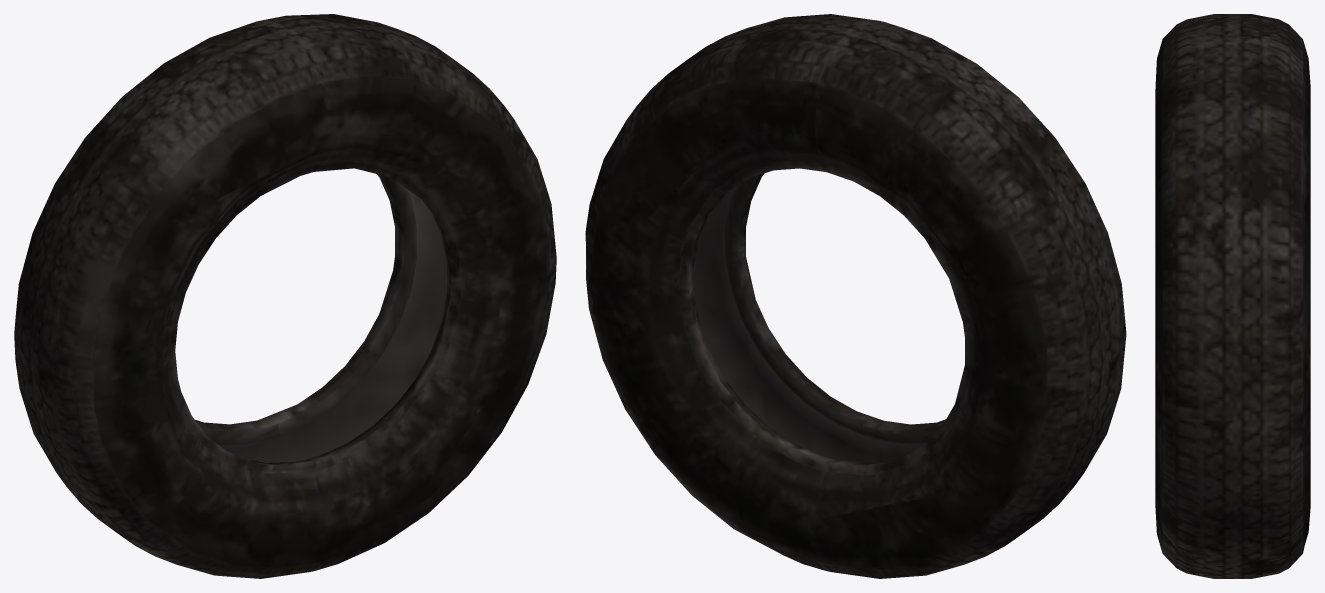
Rendered from tyre.glb.
3 renders of one model, left to right at view 1: azimuth 30°, elevation 25°; view 2: azimuth 150°, elevation 25°; view 3: azimuth 270°, elevation 25°, orthographic. The views are drawn at different scales.
Visible parts, largest first — view 1: old_tyre; view 2: old_tyre; view 3: old_tyre.
Boxes of the visible parts, x1,y1,x2,y2 form: old_tyre: (14,14,556,578); old_tyre: (585,14,1126,578); old_tyre: (1155,14,1310,578).
Size of the model in its own units: 0.6 by 0.6 by 0.165.
Materials: 1 (1 with a texture image).
